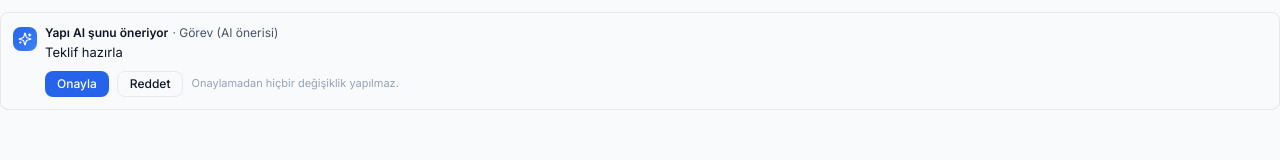
Test: ProposedActionCard (CR-011-D) › director approves -> posts to the approvals flow + confirms
Click the button "Onayla" at (77, 84), box [45,70,109,96]
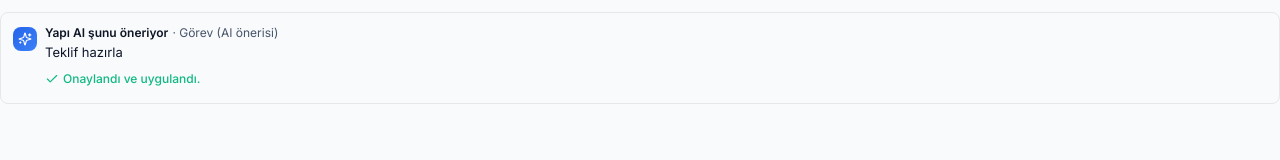
Now the text "Onaylandı ve uygulandı." is shown, box [45,70,200,86]
